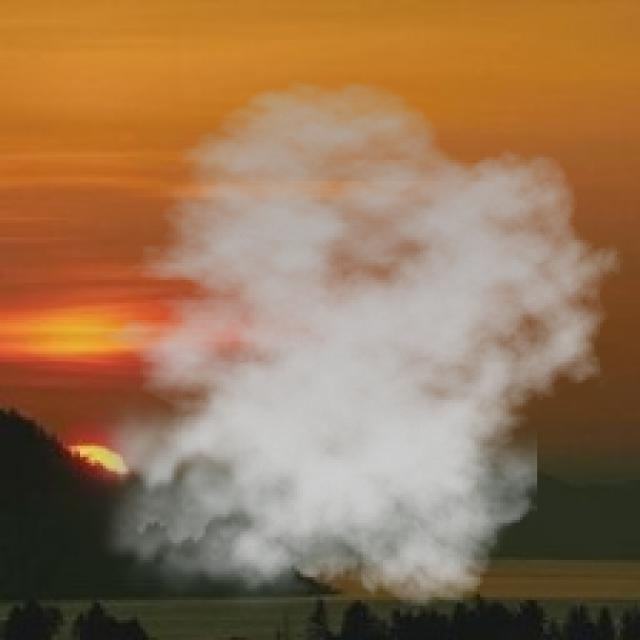smoke: (68, 80, 623, 623)
